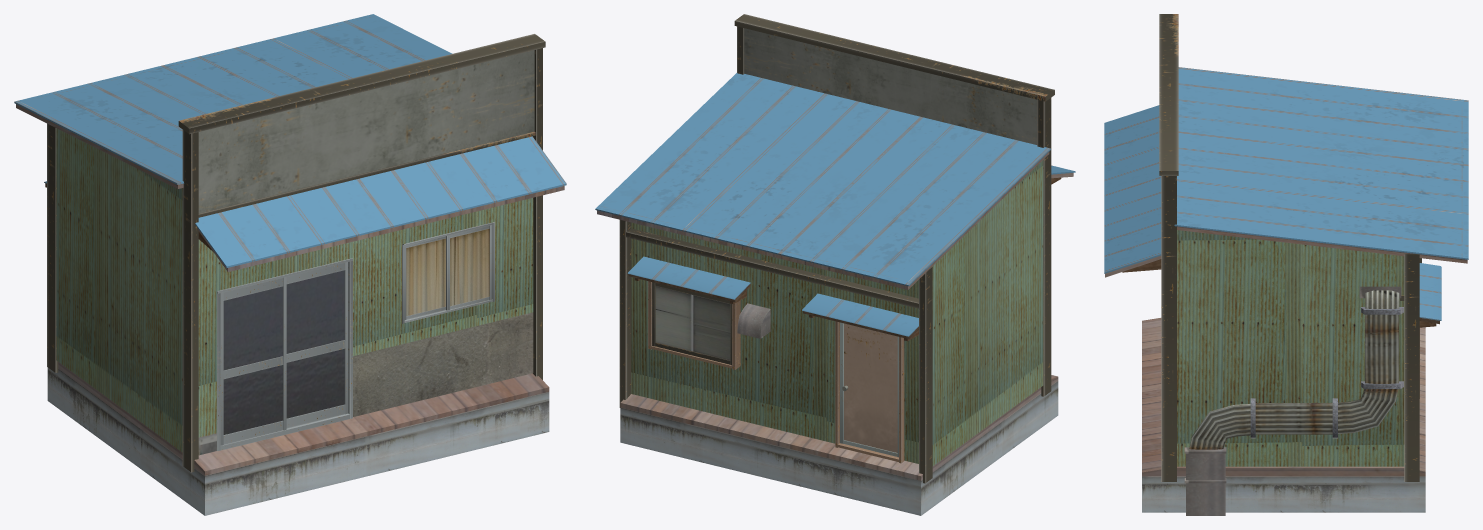
File: ms_small_2.fbx
3 renders of one model, left to right at view 1: azimuth 30°, elevation 25°; view 2: azimuth 150°, elevation 25°; view 3: azimuth 270°, elevation 25°, orthographic. The views are drawn at different scales.
Parts seen in each view (by area): view 1: ms_small_2; view 2: ms_small_2; view 3: ms_small_2.
Boxes of the visible parts, x1,y1,x2,y2 form: ms_small_2: [14, 14, 566, 515]; ms_small_2: [595, 14, 1075, 515]; ms_small_2: [1104, 14, 1468, 515].
Bounding box in the file's own units: 610 × 591 × 618.
5 materials, 5 textured.
